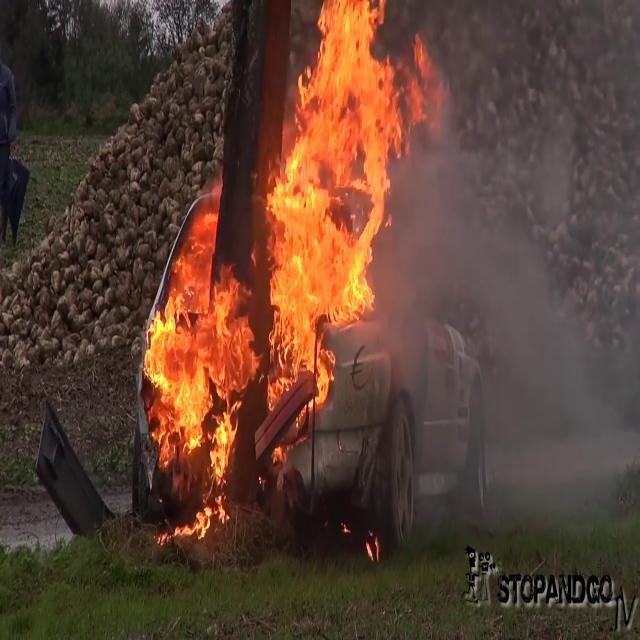Fire: (263, 0, 429, 381), (138, 212, 248, 538)
Smoke: (382, 218, 638, 536)
